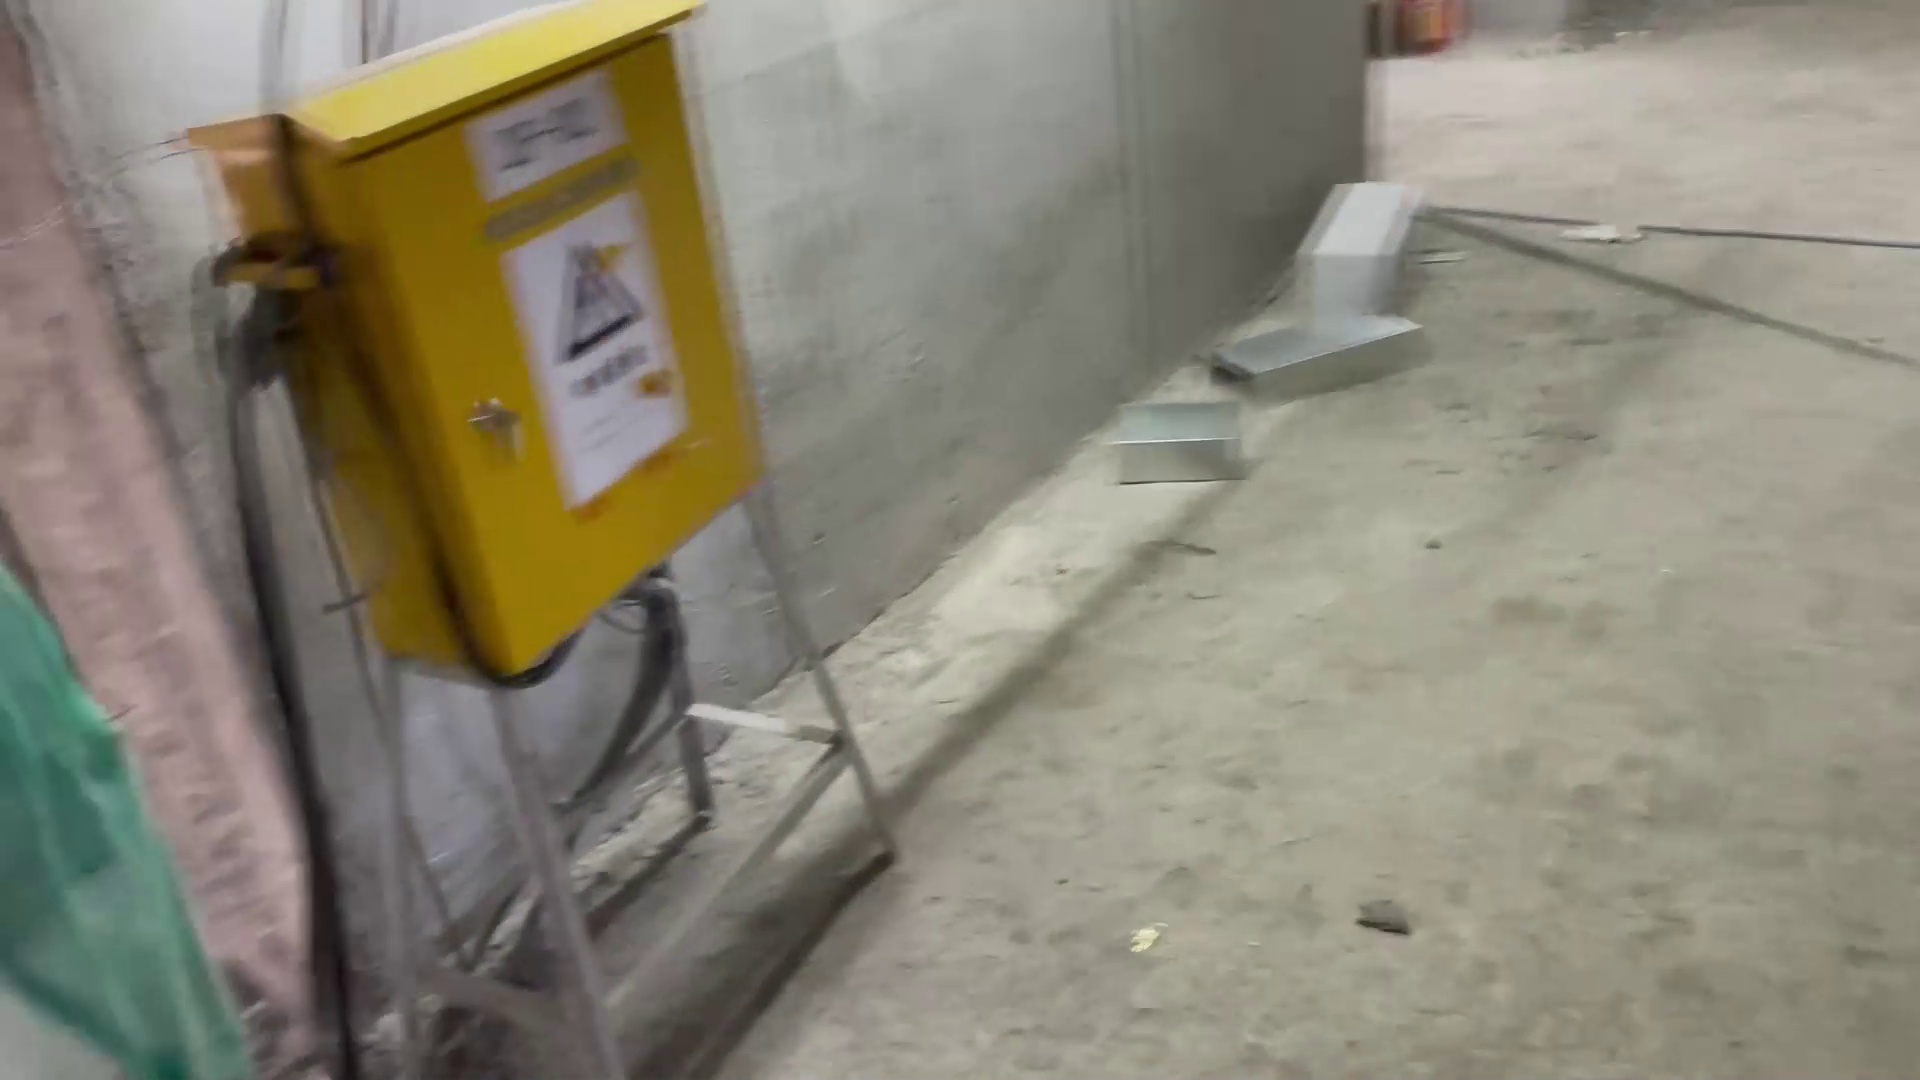ebox: (160, 13, 968, 1073)
